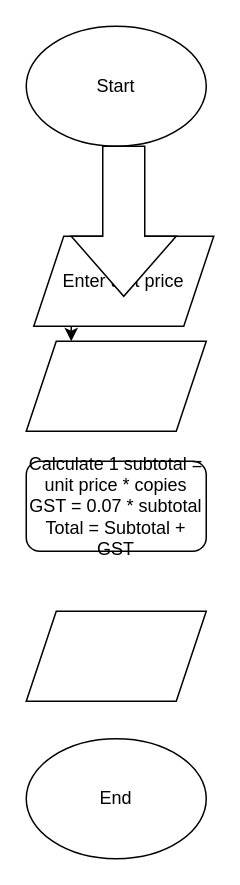
This 240x885 diagram has some shape labels left out. Each missing label, with the centre of its shape:
Display subtotal: [115,655]
Enter number of copies: [115,385]
